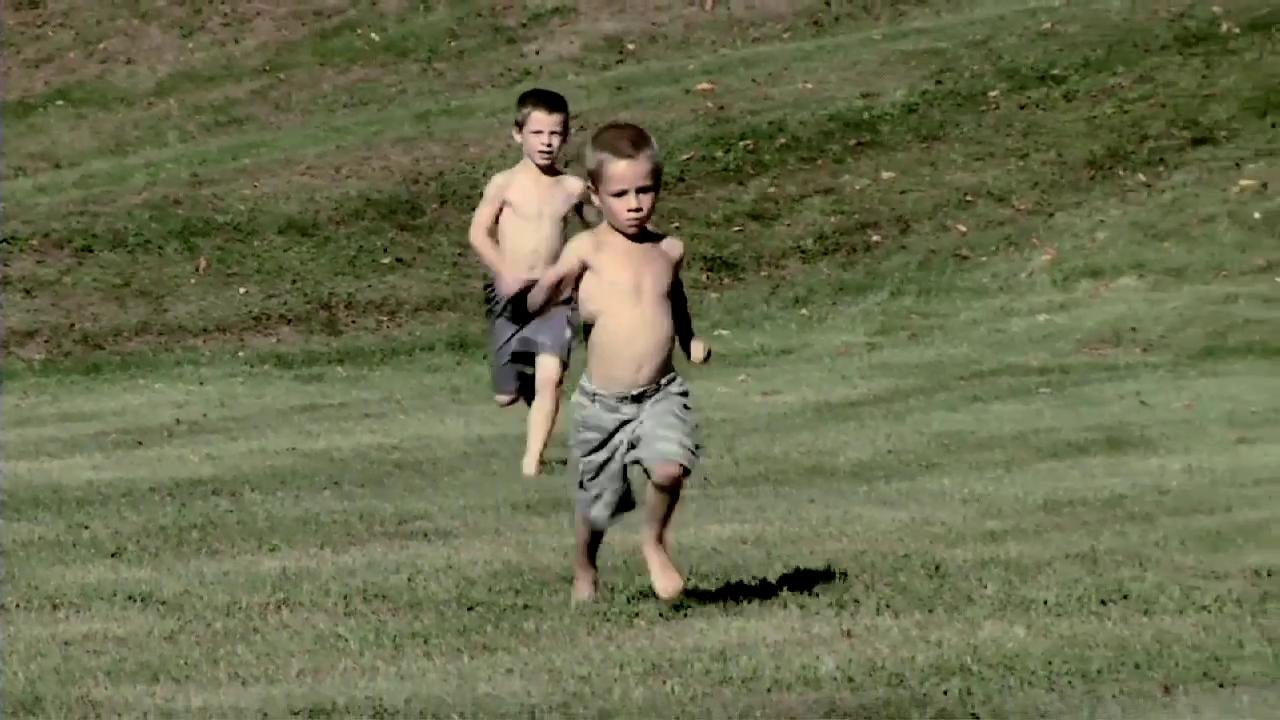victim: (522, 121, 714, 603), (461, 77, 584, 483)
